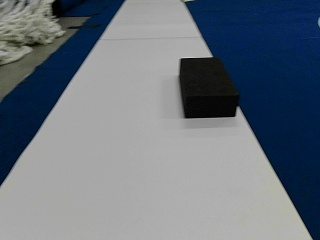block: (178, 56, 238, 117)
